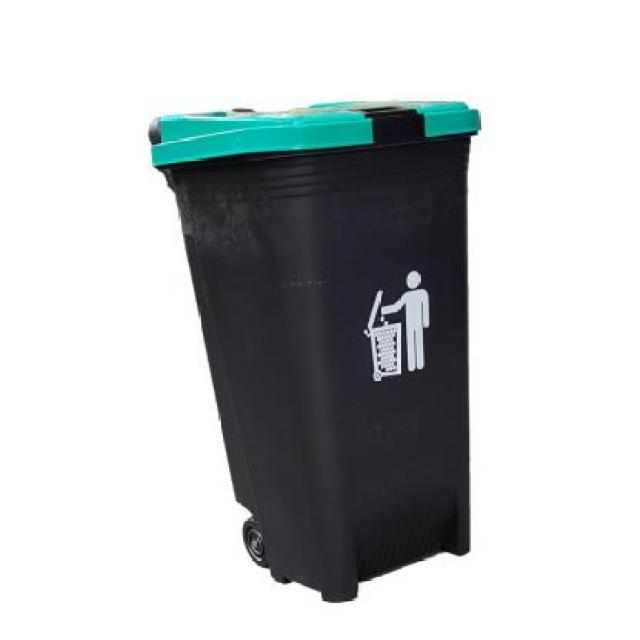garbage container: (137, 91, 511, 619)
